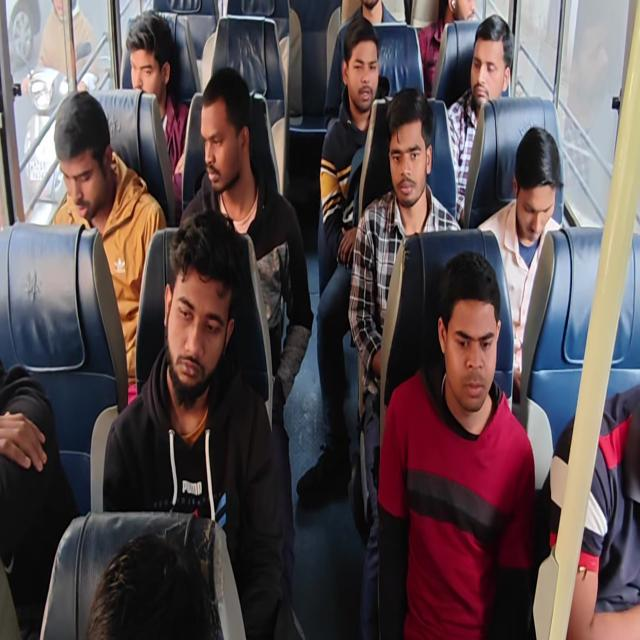person: (100, 208, 286, 638), (176, 66, 314, 623), (348, 86, 462, 637), (376, 250, 536, 638), (296, 17, 392, 505), (51, 90, 167, 405), (538, 383, 639, 639), (477, 125, 564, 398), (0, 357, 79, 638), (18, 0, 100, 221), (85, 532, 223, 639), (446, 14, 514, 225), (124, 9, 190, 215), (323, 0, 406, 126), (36, 0, 99, 92), (418, 0, 477, 96), (338, 0, 403, 27)
